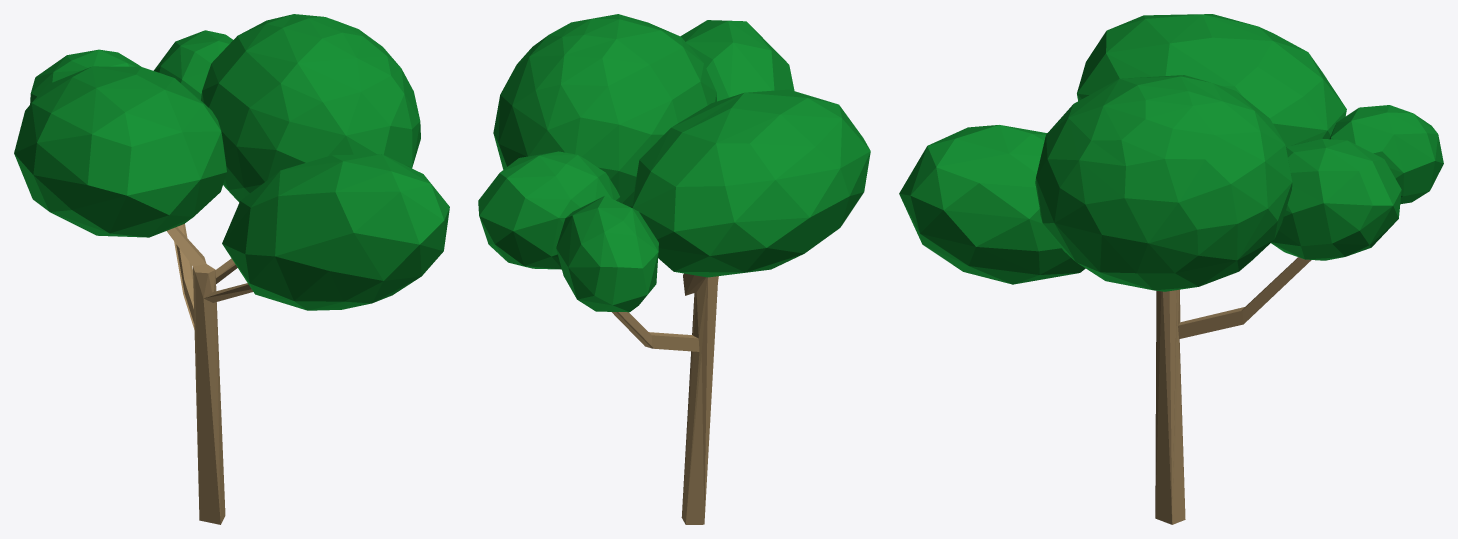
Rendered from tree2.glb.
3 views of the same model, side by side, from view 1: azimuth 30°, elevation 25°; view 2: azimuth 150°, elevation 25°; view 3: azimuth 270°, elevation 25° (orthographic). The views are drawn at different scales.
Parts seen in each view (by area): view 1: Sphere.003, Sphere.004, Sphere, Cylinder, Sphere.002, Sphere.001; view 2: Sphere.003, Sphere.004, Sphere.002, Sphere.001, Cylinder, Sphere; view 3: Sphere.004, Sphere, Sphere.003, Sphere.002, Cylinder, Sphere.001.
Part boxes in pixels (x1,y1,x2,y2): Sphere.003: (14, 66, 226, 237); Sphere.004: (201, 14, 420, 202); Sphere: (222, 154, 449, 310); Cylinder: (167, 224, 253, 524); Sphere.002: (153, 30, 232, 100); Sphere.001: (30, 49, 141, 104); Sphere.003: (632, 89, 870, 277); Sphere.004: (493, 14, 716, 207); Sphere.002: (478, 151, 620, 269); Sphere.001: (556, 196, 658, 312); Cylinder: (612, 273, 718, 524); Sphere: (680, 20, 794, 101); Sphere.004: (1035, 75, 1292, 291); Sphere: (899, 125, 1085, 284); Sphere.003: (1077, 14, 1346, 146); Sphere.002: (1271, 138, 1401, 260); Cylinder: (1155, 257, 1311, 524); Sphere.001: (1329, 105, 1443, 204).
Bounding box in the file's own units: 1.44 × 1.83 × 1.89.
